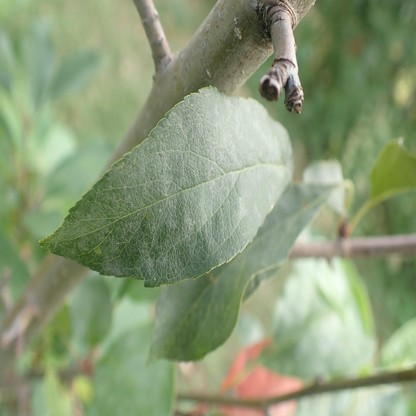powder: (39, 85, 293, 288), (152, 278, 197, 338)
